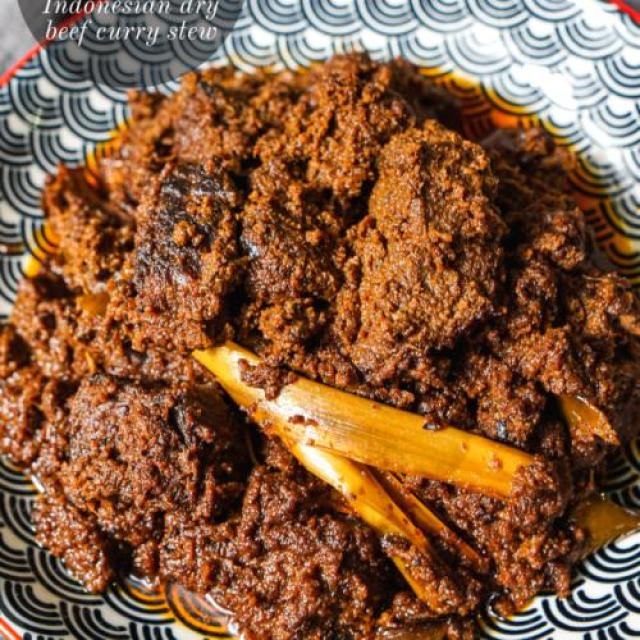Rendang: (0, 55, 640, 633)
